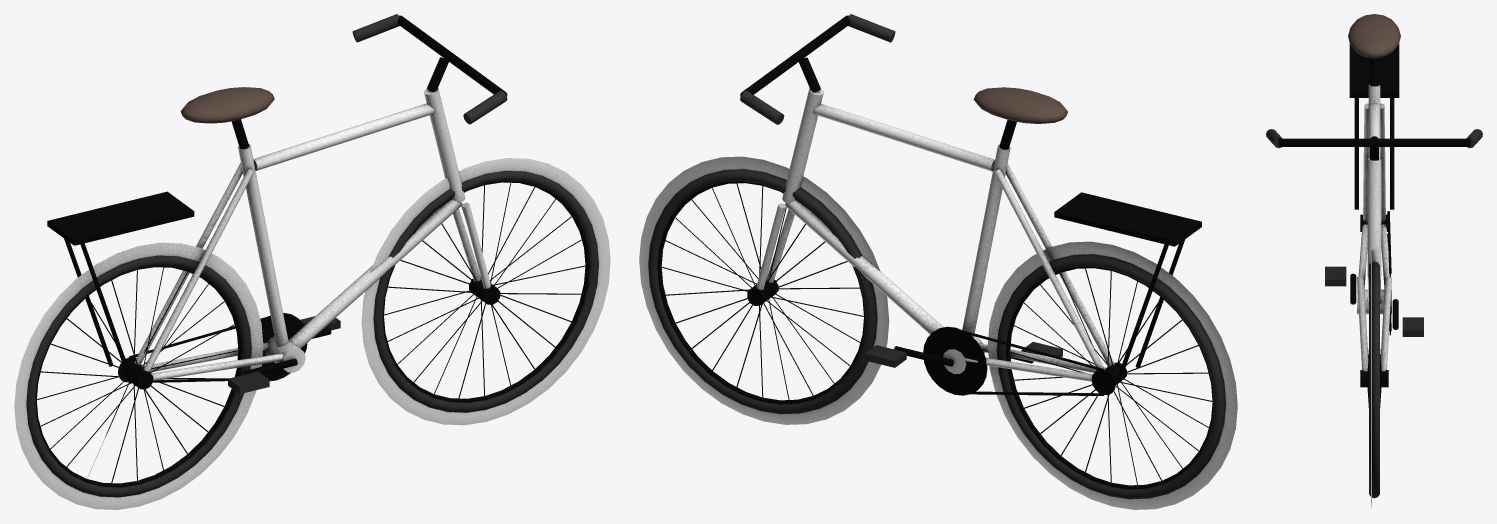
The model's file is bicycle.glb.
3 renders of one model, left to right at view 1: azimuth 30°, elevation 25°; view 2: azimuth 150°, elevation 25°; view 3: azimuth 270°, elevation 25°, orthographic. The views are drawn at different scales.
Visible parts, largest first — view 1: chain_bottom; view 2: chain_bottom; view 3: chain_bottom.
Part boxes in pixels (box(x1,y1,x2,y2)): chain_bottom: box(14, 14, 610, 509); chain_bottom: box(639, 14, 1237, 509); chain_bottom: box(1266, 14, 1482, 508).
Size of the model in its own units: 1.79 by 1.11 by 0.6136.
2 materials, 2 textured.
